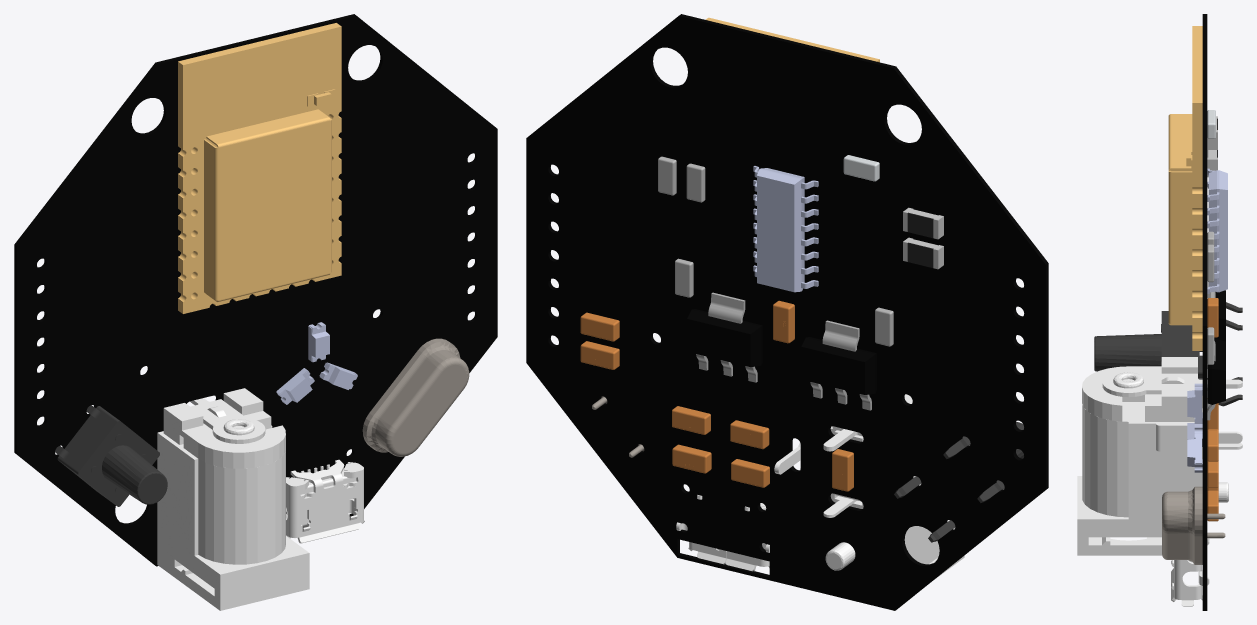
File: board-1.glb
3 views of the same model, side by side, from view 1: azimuth 30°, elevation 25°; view 2: azimuth 150°, elevation 25°; view 3: azimuth 270°, elevation 25° (orthographic). The views are drawn at different scales.
Visible parts, largest first — view 1: PCB; view 2: PCB, NAUO2_1, NAUO2, NAUO1_1, NAUO1; view 3: PCB, NAUO2_1, NAUO2.
Part boxes in pixels (left/top/right/bottom): PCB: left=14, top=14, right=497, bottom=610; PCB: left=526, top=14, right=1048, bottom=610; NAUO2_1: left=687, top=309, right=762, bottom=367; NAUO2: left=801, top=337, right=876, bottom=394; NAUO1_1: left=708, top=292, right=745, bottom=323; NAUO1: left=822, top=320, right=859, bottom=351; PCB: left=1077, top=14, right=1242, bottom=610; NAUO2_1: left=1207, top=338, right=1225, bottom=404; NAUO2: left=1214, top=290, right=1225, bottom=341.
Size of the model in its own units: 0.0485 by 0.0484 by 0.0145.
